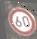Speed Limit -60-: (4, 4, 36, 35)
